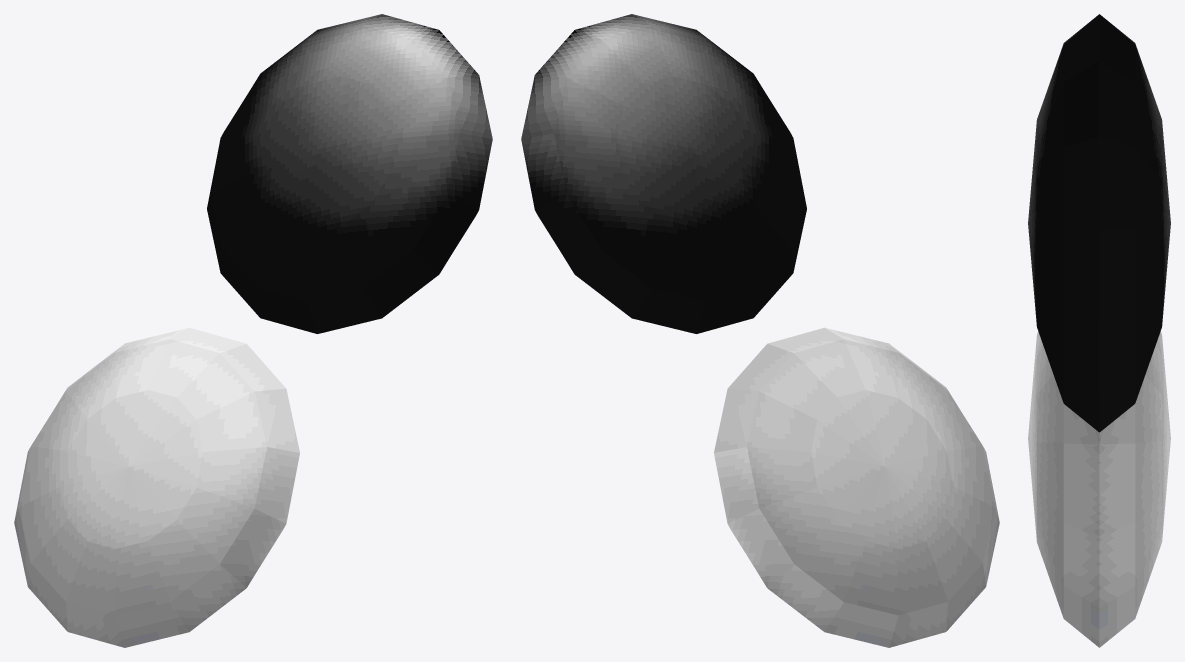
Rendered from ps2_save-icons_taisen2.glb.
3 renders of one model, left to right at view 1: azimuth 30°, elevation 25°; view 2: azimuth 150°, elevation 25°; view 3: azimuth 270°, elevation 25°, orthographic. The views are drawn at different scales.
Parts seen in each view (by area): view 1: icon1.ico; view 2: icon1.ico; view 3: icon1.ico.
Boxes of the visible parts, x1=… form: icon1.ico: x1=14, y1=14, x2=492, y2=647; icon1.ico: x1=521, y1=14, x2=999, y2=647; icon1.ico: x1=1028, y1=14, x2=1170, y2=647.
Bounding box in the file's own units: 1.6 × 1.83 × 0.333.
1 material, 1 textured.
